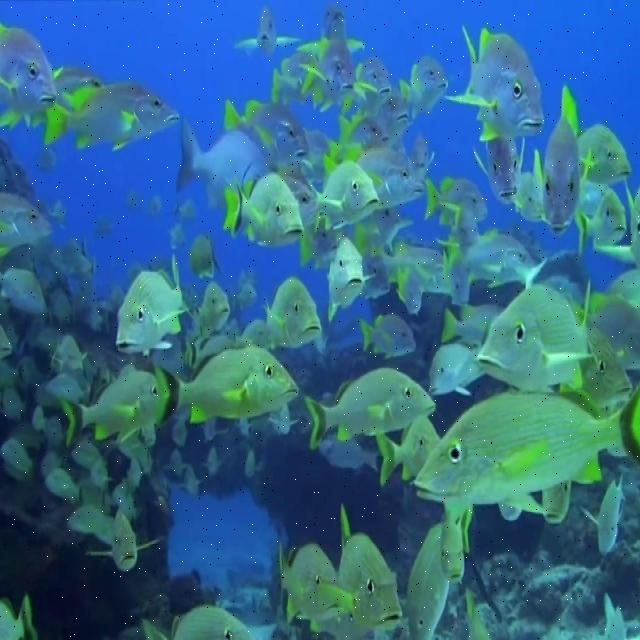fish: (413, 387, 639, 515), (477, 280, 592, 389), (441, 22, 544, 142), (154, 345, 300, 427), (303, 368, 433, 451), (321, 506, 399, 627), (43, 85, 180, 151), (176, 115, 271, 209), (60, 362, 156, 449), (529, 89, 585, 237), (113, 267, 190, 354), (441, 229, 538, 291), (221, 98, 310, 163), (0, 23, 54, 130), (229, 172, 305, 248), (405, 520, 450, 639), (86, 509, 166, 573), (279, 540, 336, 624), (375, 417, 439, 488), (308, 161, 378, 225), (326, 237, 376, 321), (585, 466, 629, 556), (473, 135, 527, 207), (141, 605, 254, 639), (575, 188, 627, 260), (265, 278, 319, 347), (583, 325, 630, 403), (424, 176, 490, 231), (359, 145, 421, 203), (231, 10, 304, 57), (293, 46, 353, 103), (0, 189, 51, 251), (426, 344, 483, 397), (583, 122, 635, 180), (398, 55, 447, 111), (360, 312, 416, 360), (189, 283, 232, 343), (442, 507, 473, 587), (440, 303, 499, 344), (0, 267, 45, 319), (355, 55, 390, 108), (336, 111, 388, 146), (191, 232, 221, 283)
